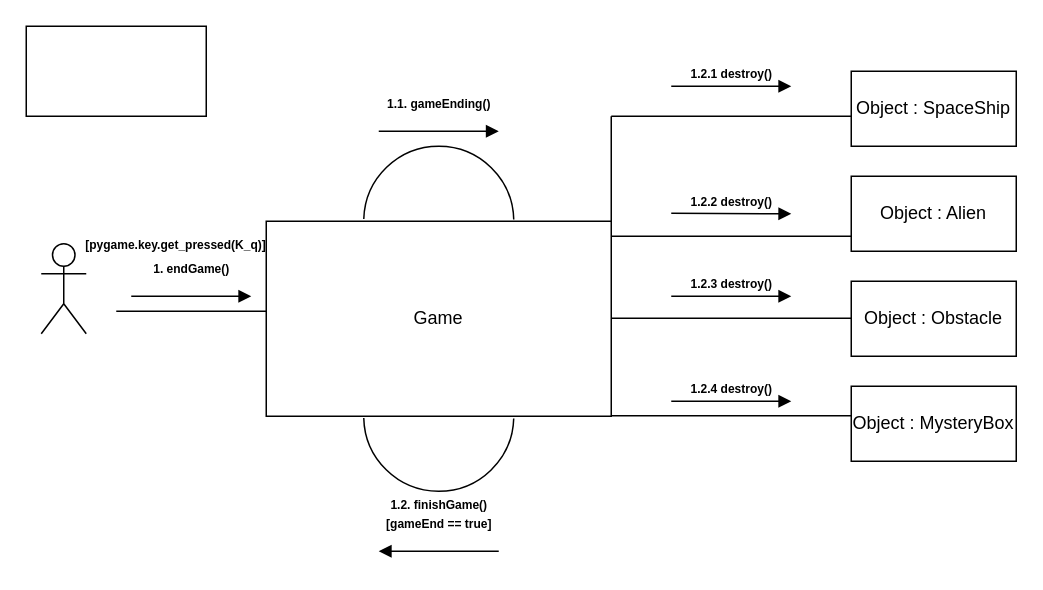
Some shapes in this 1043 by 590 pixel diagram are drawn without their labels. Here are the shapes that lost their labels. From the top down, the centre of each, then its label:
At [115,70]: "END GAME".
At [63,288]: "Player".
